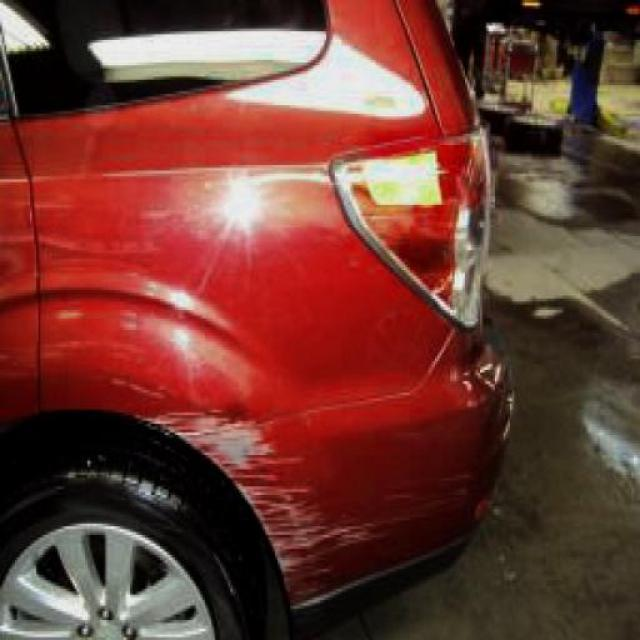Car-Damage: (149, 410, 471, 606)
